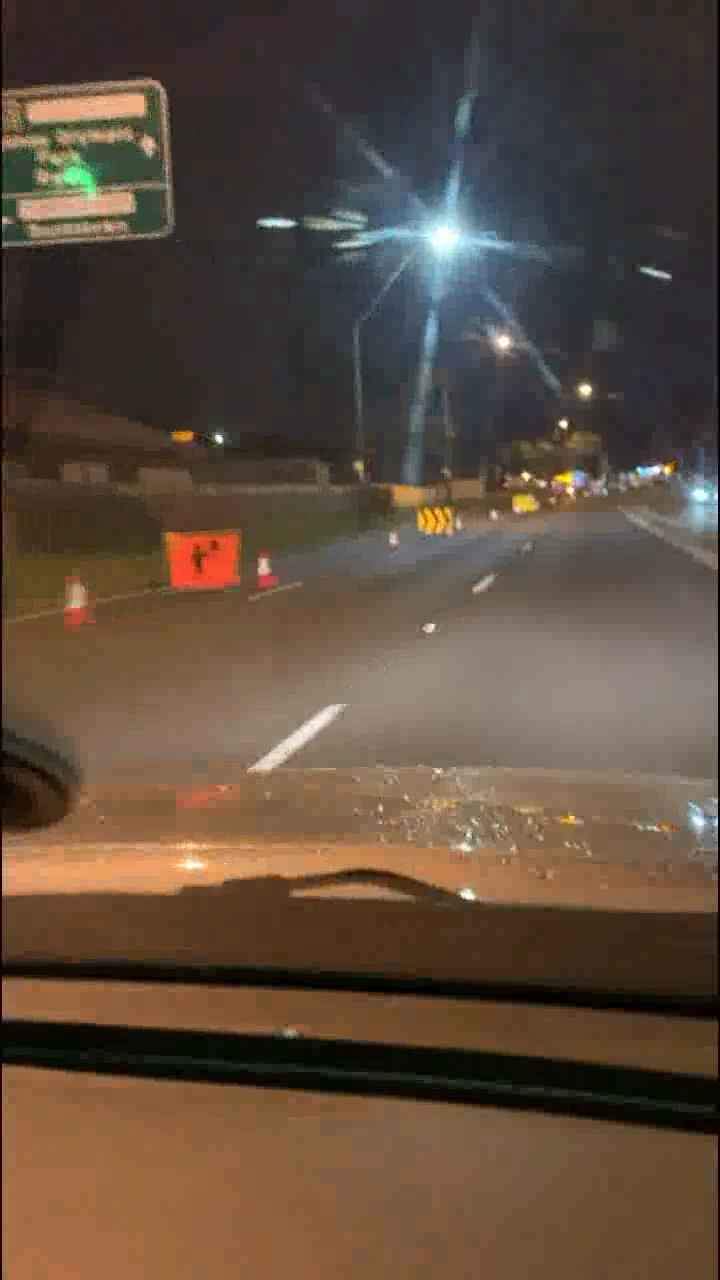road cone: (62, 571, 97, 634), (249, 548, 279, 594)
road works sign board: (164, 529, 243, 592), (420, 507, 460, 538)
